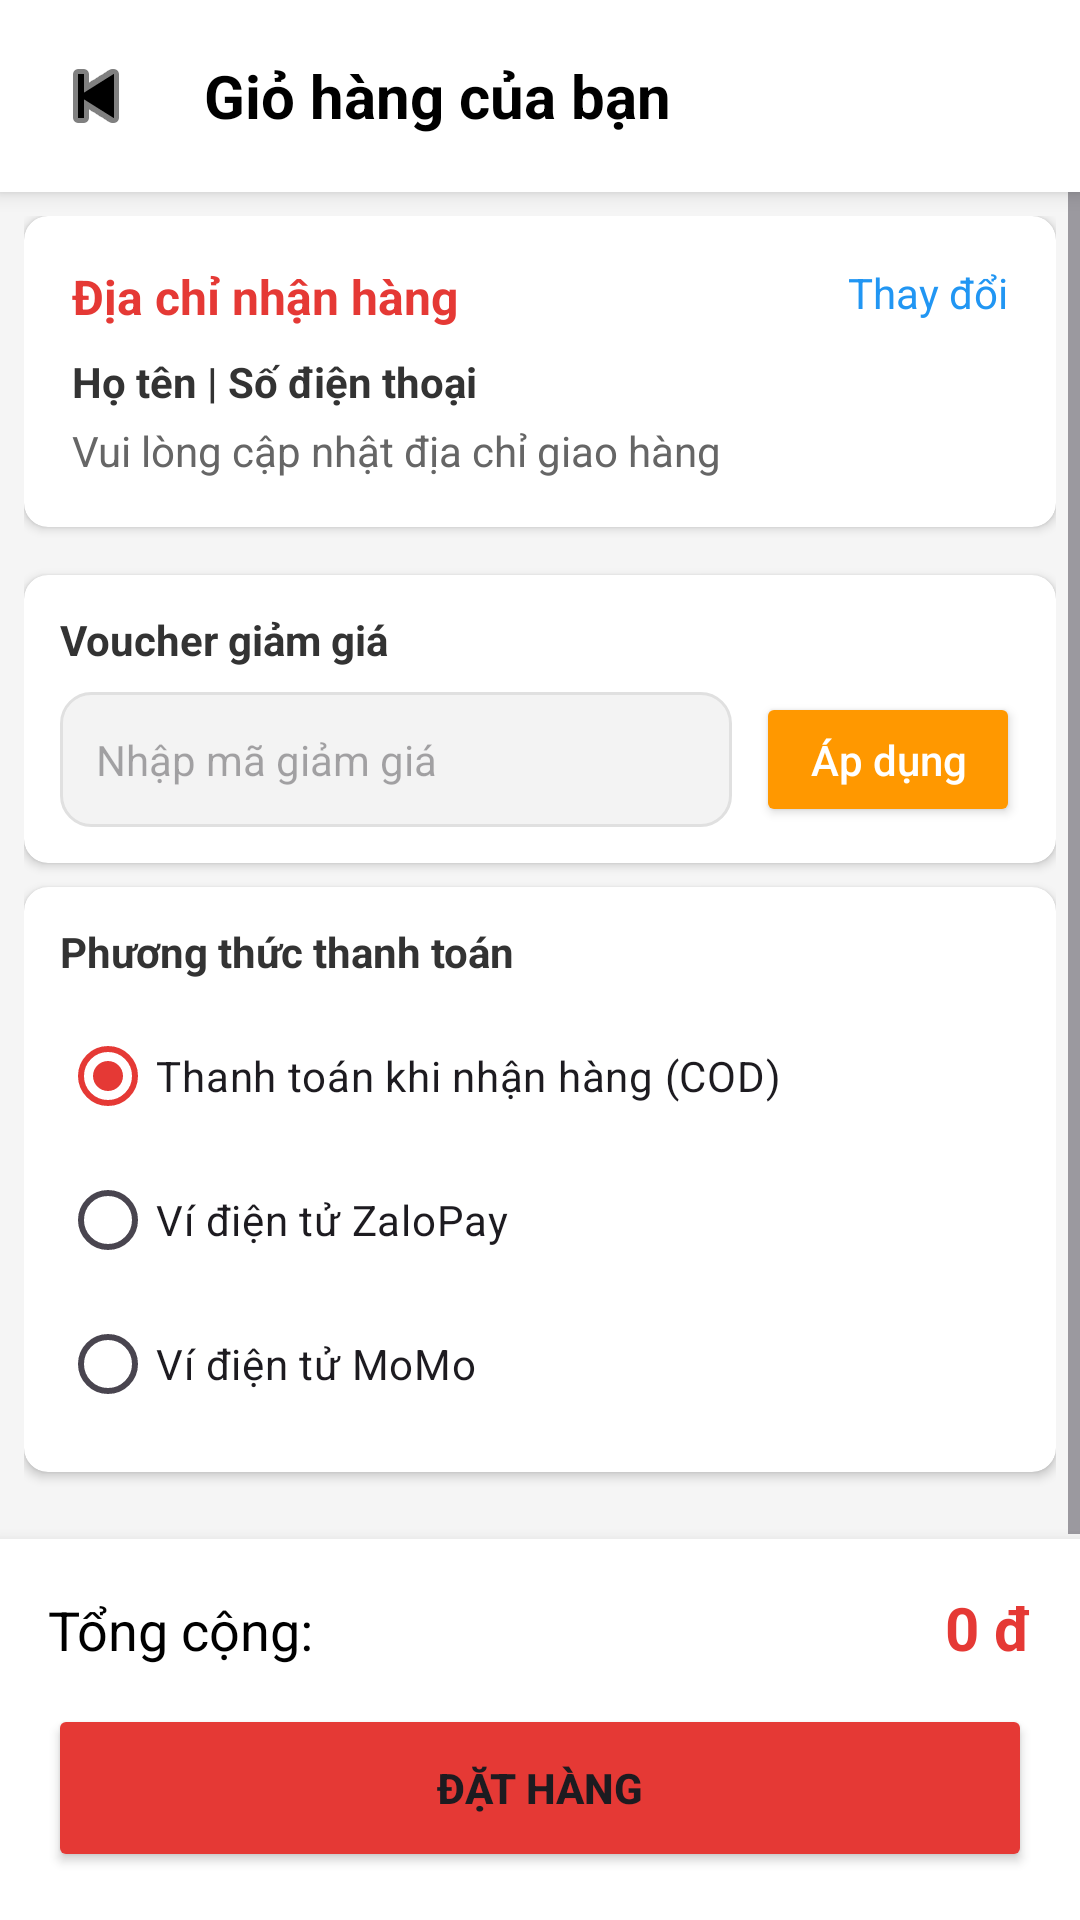

Icons on this 1080*1920 Android screen, each with the point to tap as point (x, y):
previous: point (96, 96)
